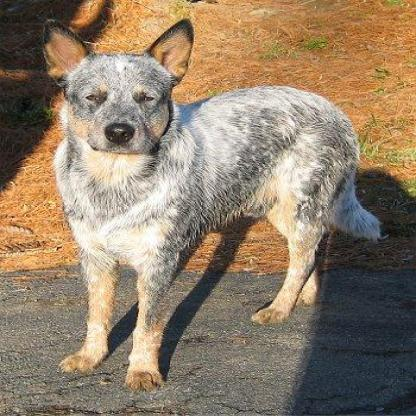kelpie: (35, 17, 391, 394)
